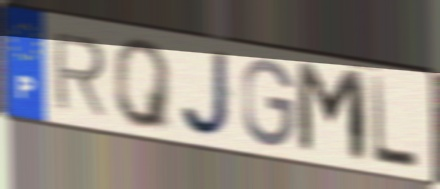G: (240, 56, 298, 150)
J: (178, 48, 237, 141)
L: (368, 72, 422, 174)
M: (292, 57, 372, 169)
Q: (110, 37, 176, 134)
R: (49, 30, 109, 119)
